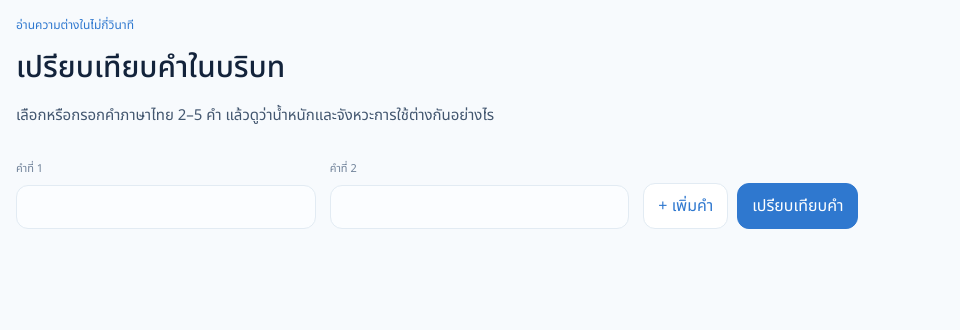
Test: ContextComparator › supports adding inputs up to the five-word boundary
The image size is (960, 330).
Click the button "+ เพิ่มคำ" at [686, 206], box left=643, top=183, right=728, bottom=229
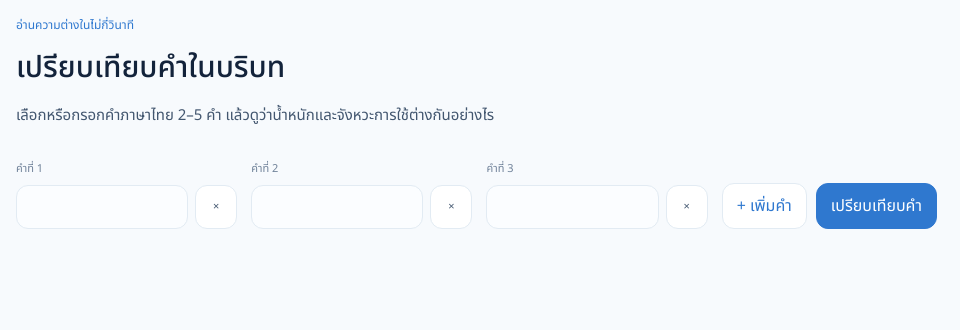
Click the button "+ เพิ่มคำ" at [764, 206], box left=722, top=183, right=807, bottom=229
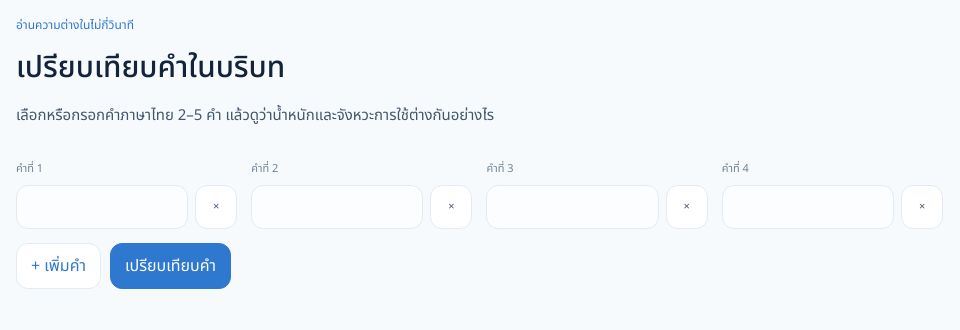
Click the button "+ เพิ่มคำ" at [58, 266], box left=16, top=243, right=101, bottom=289
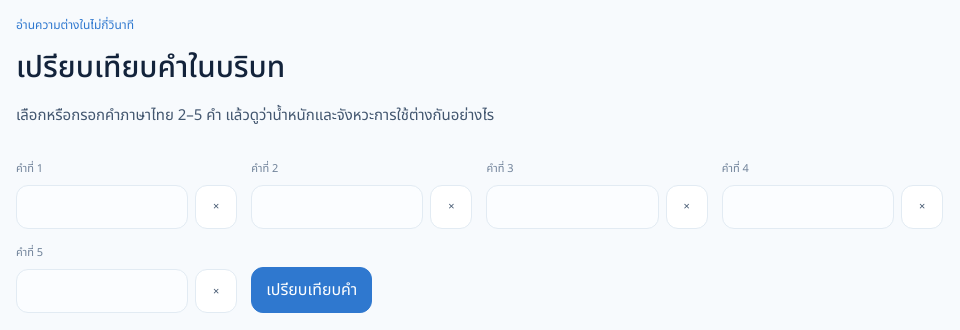
Expected: the number of fields is 5, left=16, top=185, right=188, bottom=229; left=251, top=185, right=424, bottom=229; left=486, top=185, right=659, bottom=229; left=722, top=185, right=894, bottom=229; left=16, top=269, right=188, bottom=313
Expected: the button "+ เพิ่มคำ" is gone
